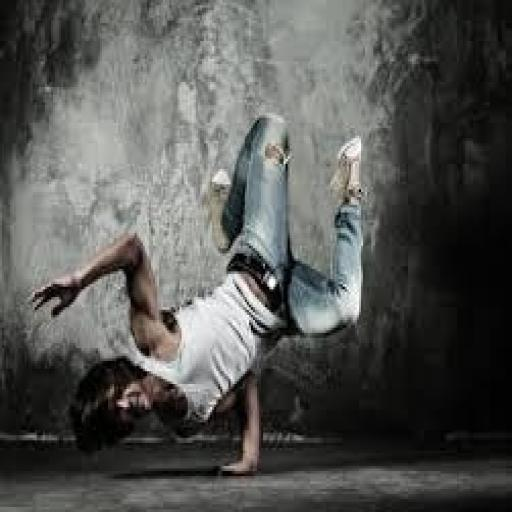dancing: (27, 108, 369, 478)
